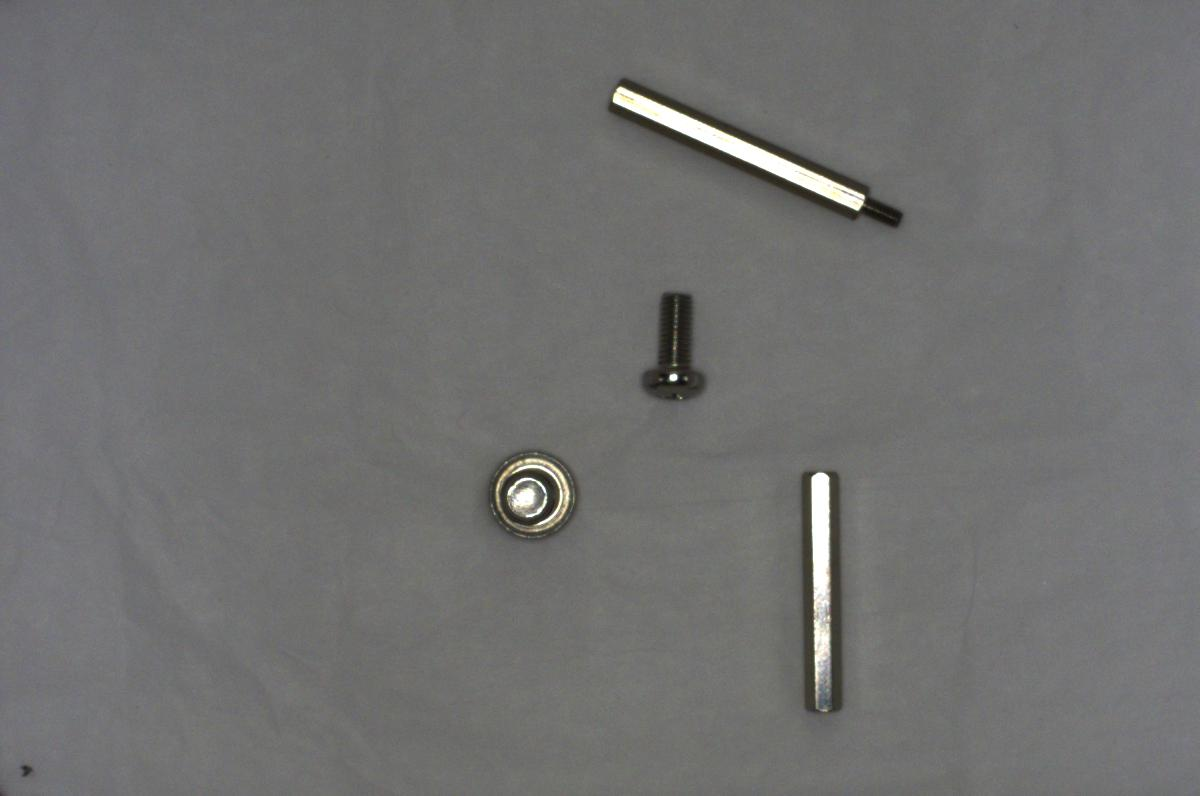Double hexagonal column: (787, 465, 857, 722)
Hexagon screw: (481, 446, 586, 545)
Hexagonal steel column: (595, 73, 905, 241)
Round head screw: (628, 287, 712, 405)
